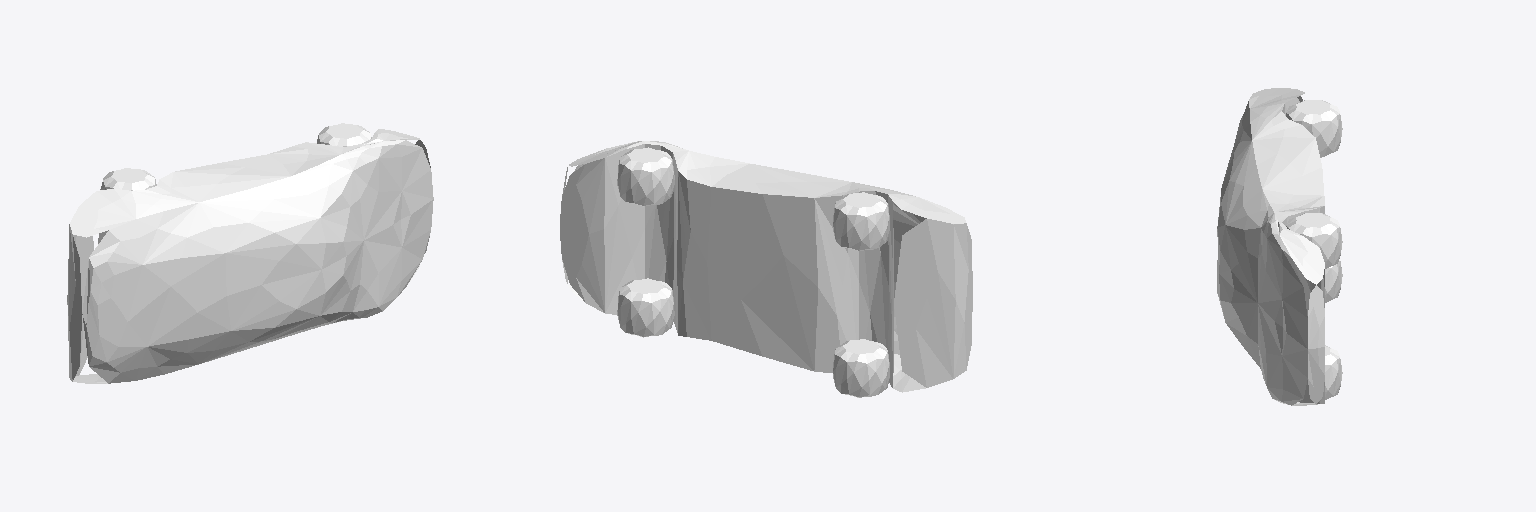
Rendered from race-car-hires-white.obj.
The picture shows the model from 3 angles: view 1: azimuth 30°, elevation 25°; view 2: azimuth 150°, elevation 25°; view 3: azimuth 270°, elevation 25°; orthographic projection.
Parts seen in each view (by area): view 1: lamboobj.obj; view 2: lamboobj.obj; view 3: lamboobj.obj.
Boxes of the visible parts, x1=… form: lamboobj.obj: x1=67, y1=123, x2=433, y2=383; lamboobj.obj: x1=560, y1=141, x2=972, y2=397; lamboobj.obj: x1=1217, y1=88, x2=1342, y2=405.
Bounding box in the file's own units: 83.27 × 39.48 × 23.61.